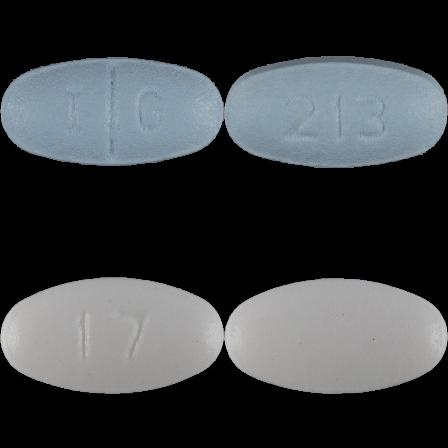68645-488: (0, 0, 224, 224)
